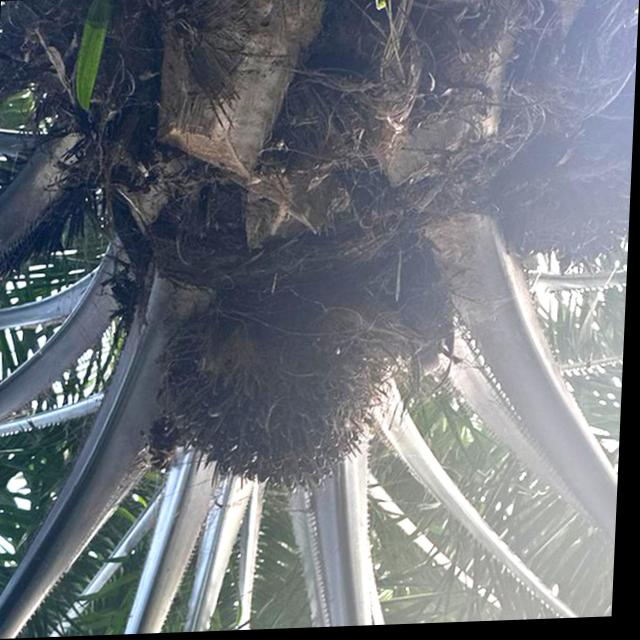unripe: (145, 282, 408, 509)
